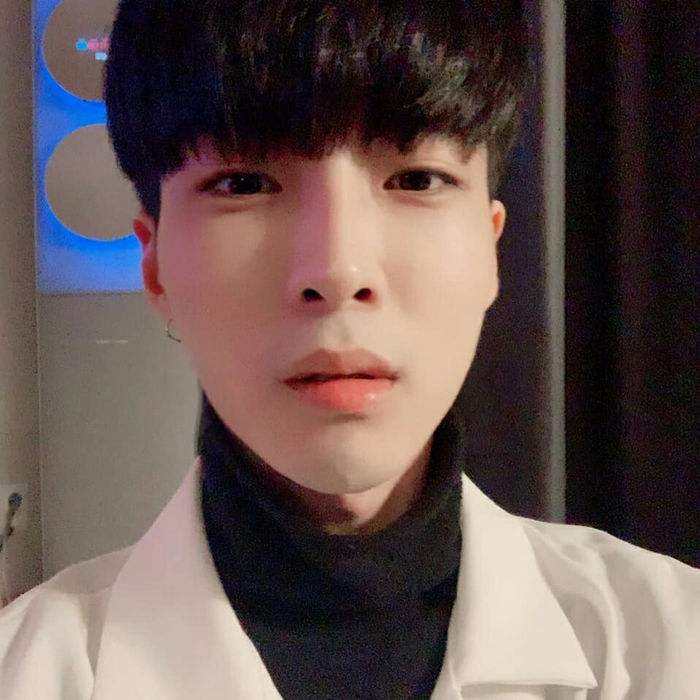person: (113, 6, 547, 464)
